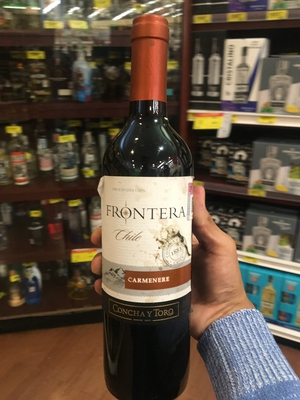frontera carmenere: (87, 34, 212, 399)
